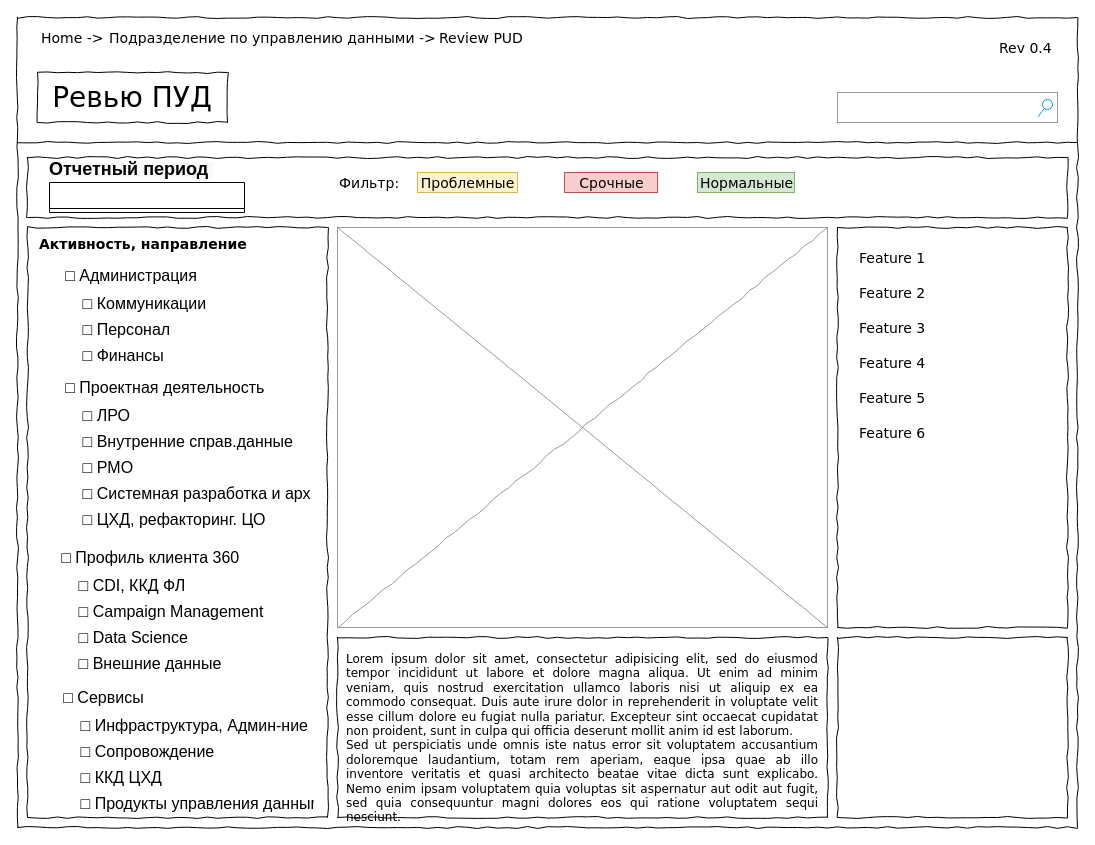
Some shapes in this 1095 by 845 pixel diagram are drawn without their labels. Here are the shapes that lost their labels. From the top down, the box of each, then its label:
(836, 92, 1058, 122): Search
(48, 182, 244, 212): 2022 май
(836, 636, 1068, 818): External Links
